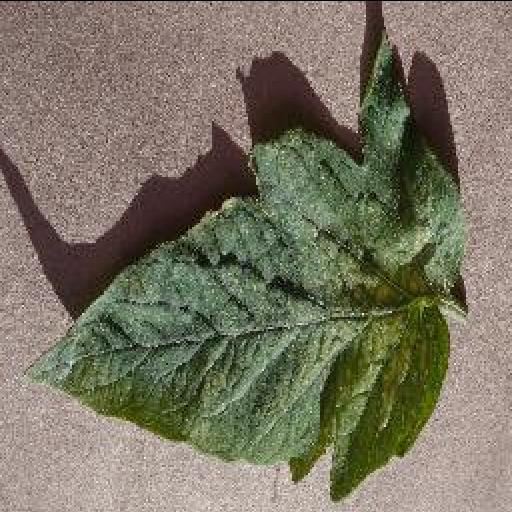disease_tomato: (18, 30, 468, 500)
